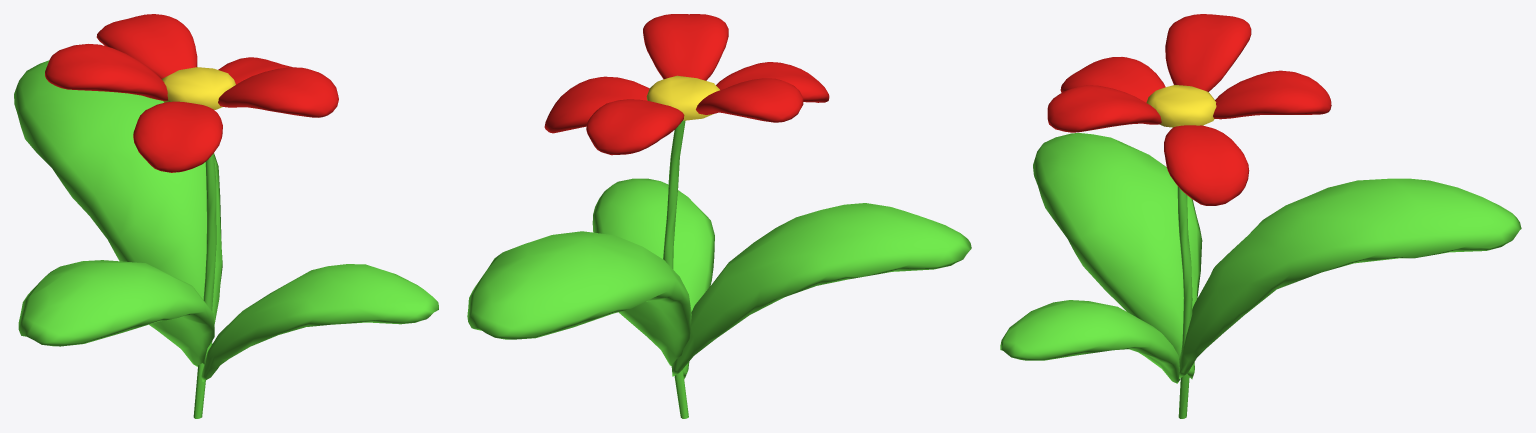
Rendered from flower.glb.
3 renders of one model, left to right at view 1: azimuth 30°, elevation 25°; view 2: azimuth 150°, elevation 25°; view 3: azimuth 270°, elevation 25°, orthographic. The views are drawn at different scales.
Visible parts, largest first — view 1: flower; view 2: flower; view 3: flower.
Part boxes in pixels (left/top/right/bottom): flower: left=14, top=14, right=438, bottom=418; flower: left=467, top=14, right=971, bottom=418; flower: left=1000, top=14, right=1521, bottom=418.
Size of the model in its own units: 2.06 by 1.89 by 2.54.
